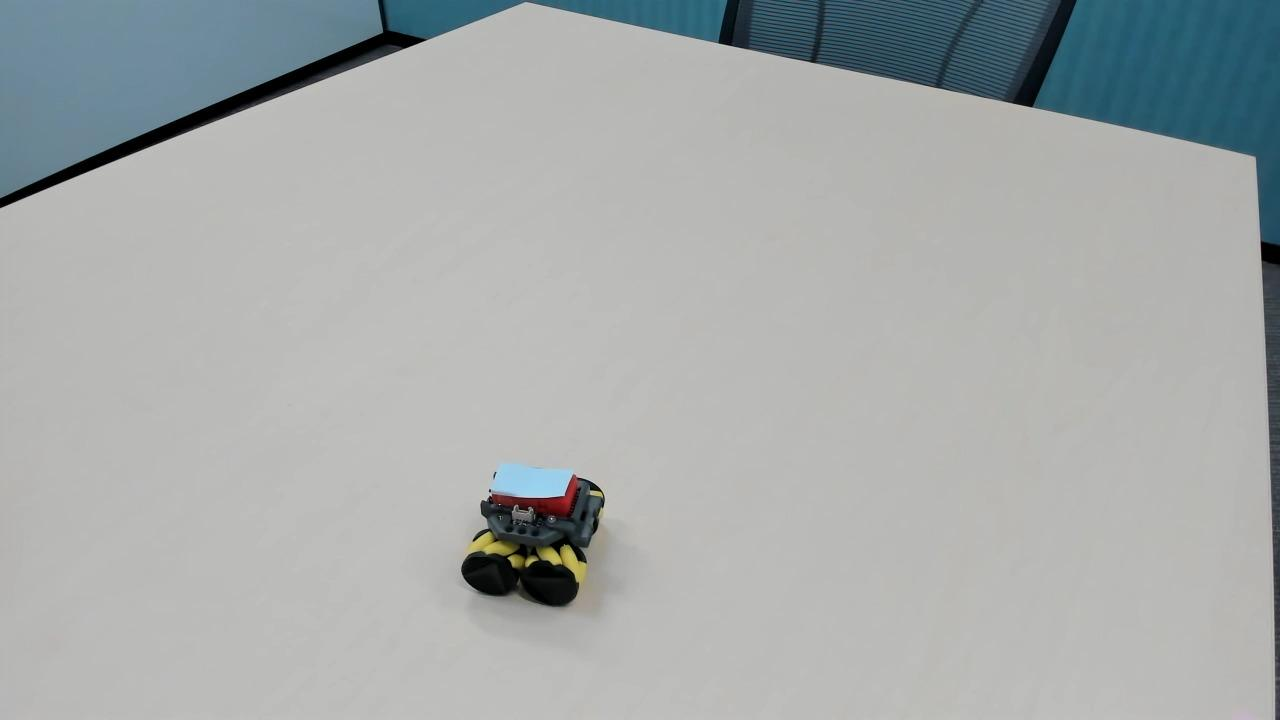B-Robot: (448, 455, 630, 615)
